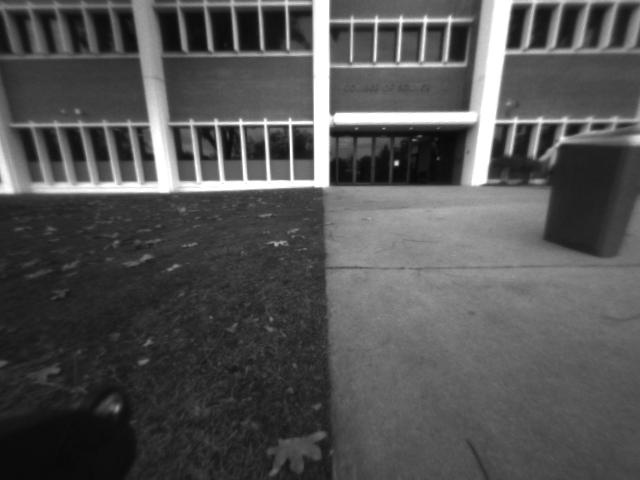trashcan: (533, 113, 640, 268)
